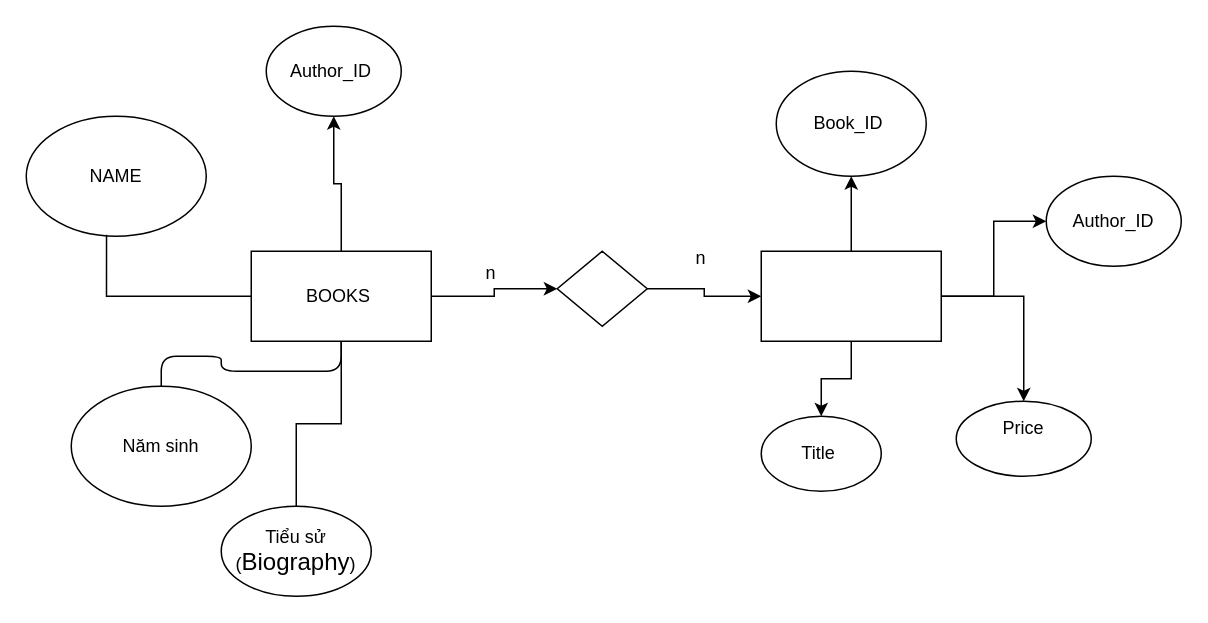
This 1208x623 diagram has some shape labels left out. The shapes that lost their labels are listed below. From the top down, each one's centre as x and y in pixels, then its label:
At point 601,288: "WRITES".
At point 850,295: "AUTHORS".
